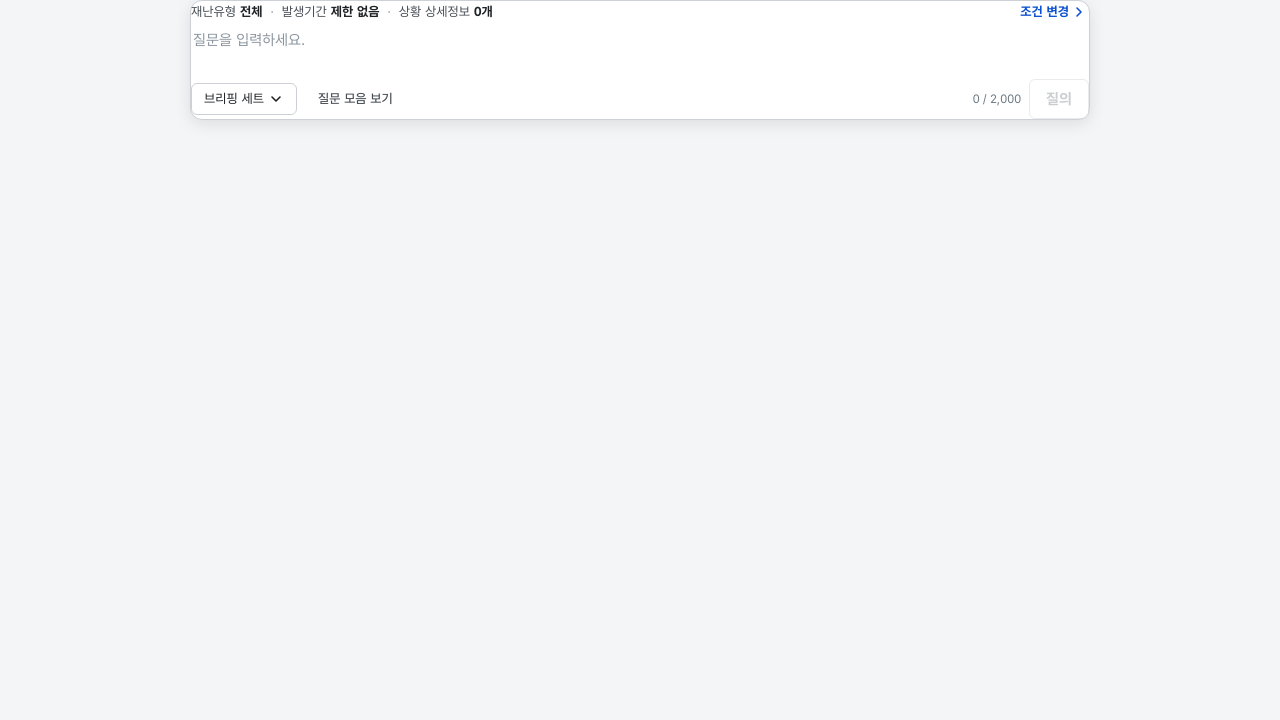
재난상황 조건 창(개발서버 ConditionModal) › 기준시각 칸·안내문·[취소] 없음, 발생기간에 시각 칸 · [기본 조건으로 되돌리기] = 최근 한 달 · 적용하면 ISO 시각으로
Later steps or results of the test are not shown.
Click the button "조건 변경": point(1054, 12) x1=1018 y1=2 x2=1089 y2=22
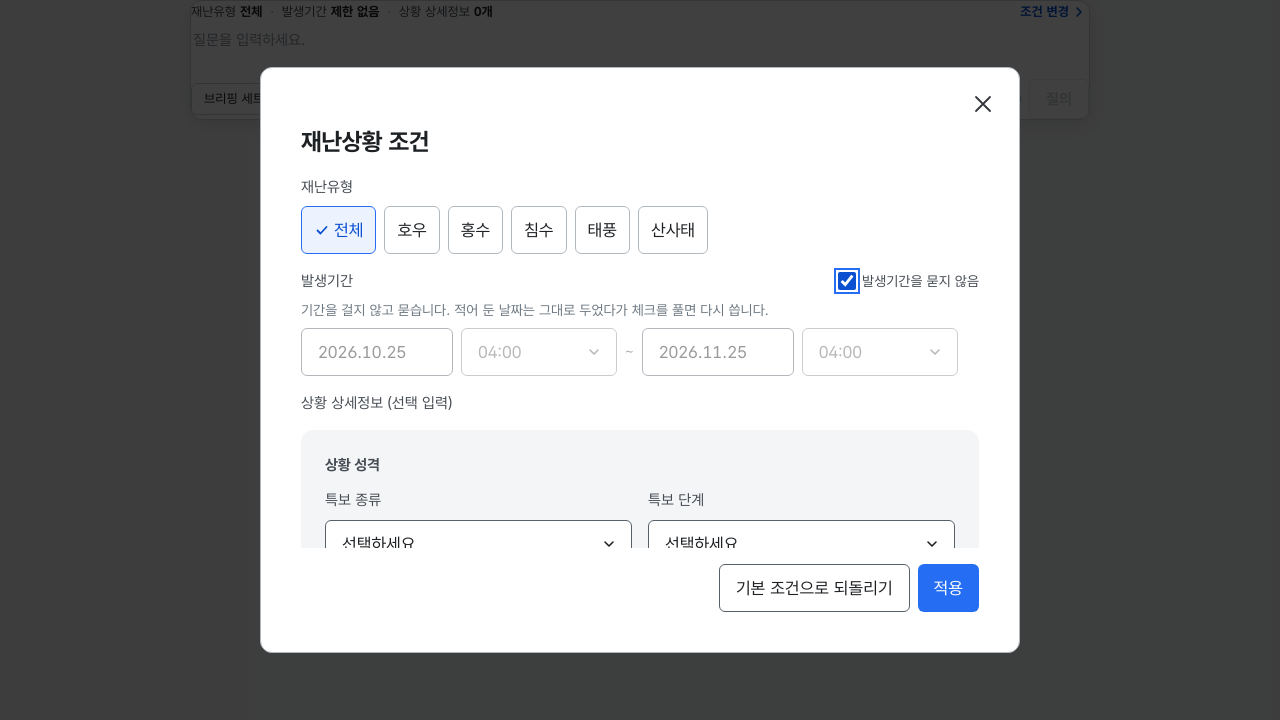
Result: the checkbox labelled "발생기간을 묻지 않음" is checked at x1=838 y1=272 x2=856 y2=290
Click the button "기본 조건으로 되돌리기": point(814, 588) x1=719 y1=564 x2=910 y2=612
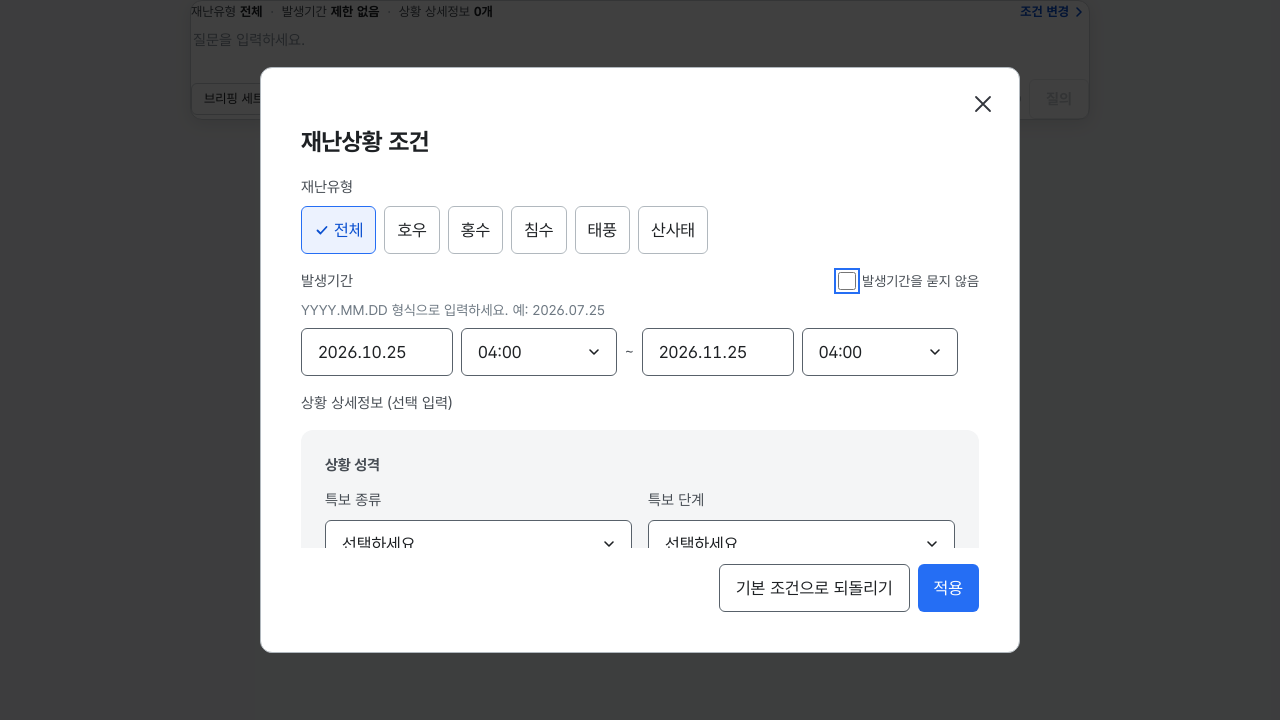
Result: the checkbox labelled "발생기간을 묻지 않음" is not checked at x1=838 y1=272 x2=856 y2=290
